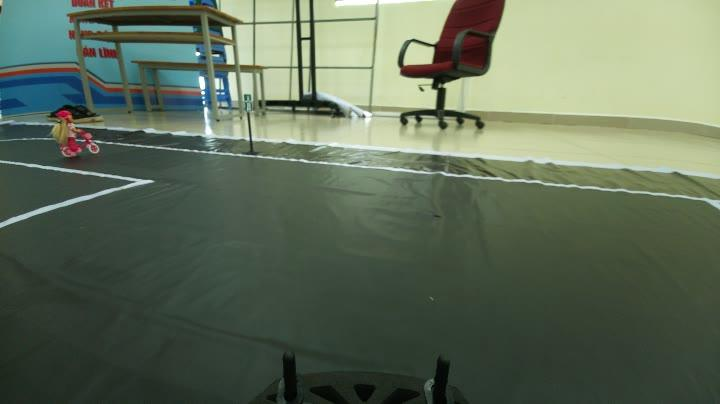pedestrian: (42, 108, 102, 162)
